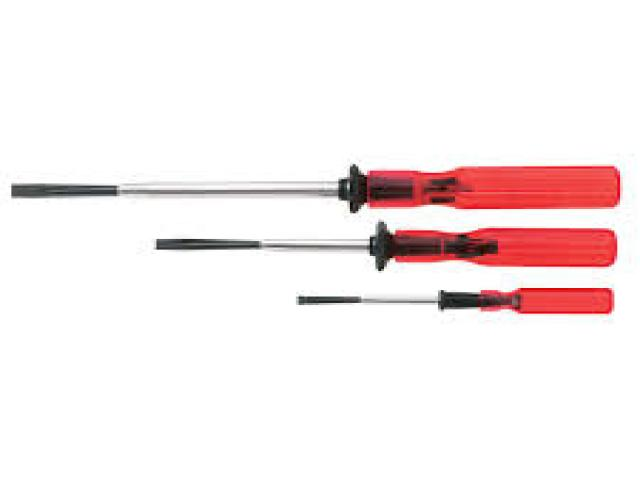Screwdriver: (11, 164, 620, 212), (156, 221, 616, 270), (296, 288, 608, 314)
